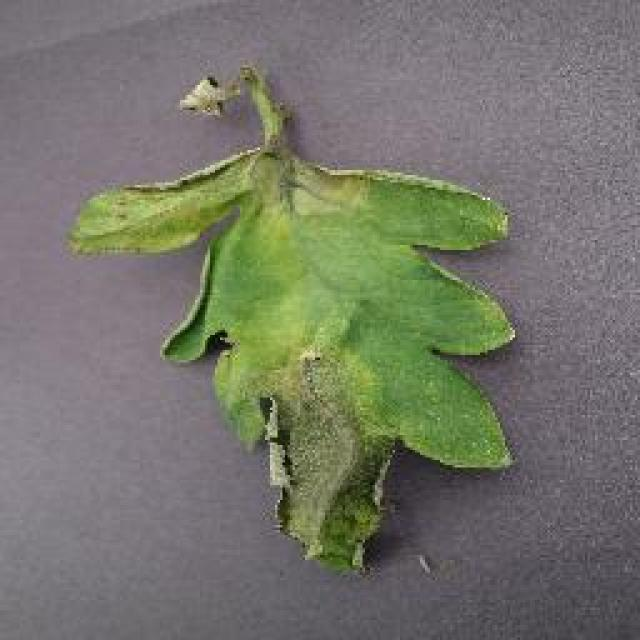Tomato late blight leaf: (71, 145, 518, 577)
